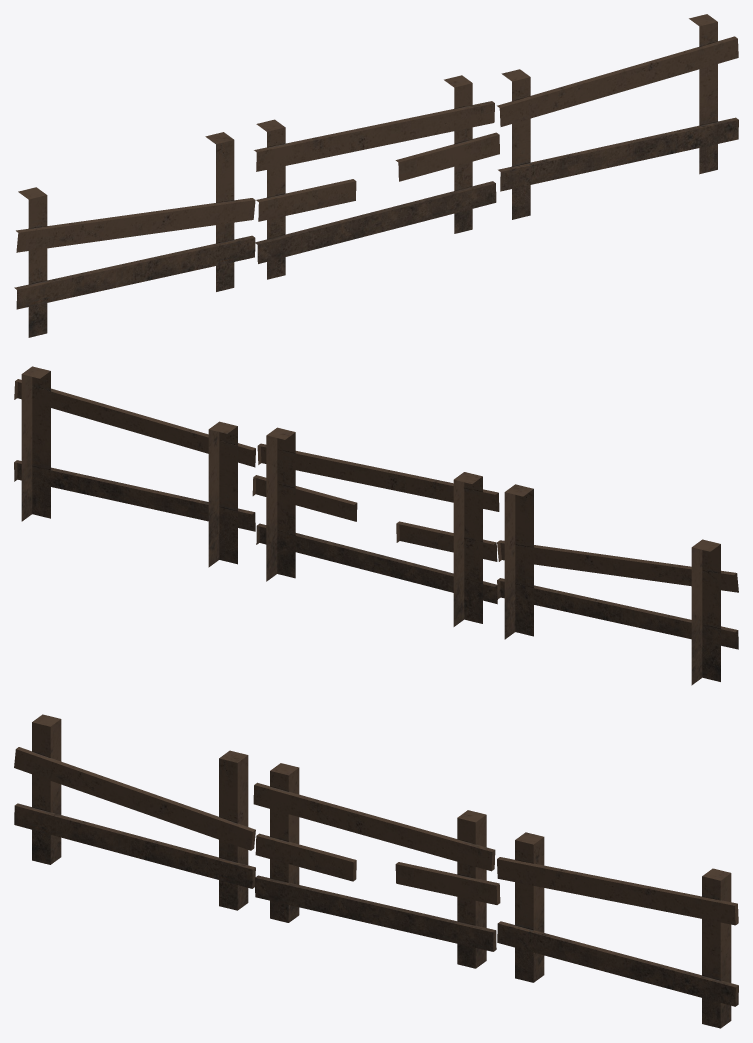
Rendered from Fence_to_Unity.fbx.
The picture shows the model from 3 angles, top to bottom: view 1: azimuth 30°, elevation 25°; view 2: azimuth 150°, elevation 25°; view 3: azimuth 330°, elevation 25°; orthographic projection.
Parts seen in each view (by area): view 1: Fence_2, Fence_3, Fence_1; view 2: Fence_2, Fence_1, Fence_3; view 3: Fence_2, Fence_1, Fence_3.
Boxes of the visible parts, x1,y1,x2,y2 form: Fence_2: (254, 75, 499, 279); Fence_3: (497, 14, 738, 219); Fence_1: (14, 132, 255, 337); Fence_2: (252, 427, 499, 626); Fence_1: (497, 484, 738, 685); Fence_3: (14, 366, 255, 567); Fence_2: (253, 763, 500, 968); Fence_1: (14, 714, 255, 910); Fence_3: (497, 832, 738, 1028).
Bounding box in the file's own units: 299 × 58.49 × 9.78.
